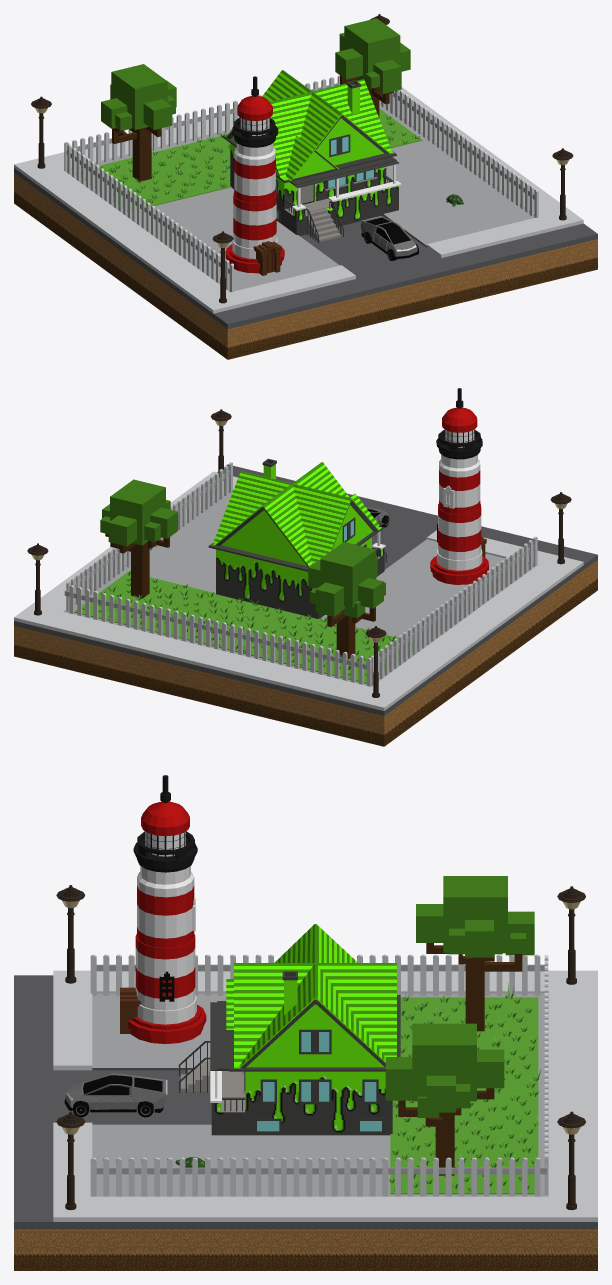
3 views of the same model, one above another, from view 1: azimuth 30°, elevation 25°; view 2: azimuth 150°, elevation 25°; view 3: azimuth 270°, elevation 25° (orthographic). The views are drawn at different scales.
Parts seen in each view (by area): view 1: Cube.004, Cube.754, OBJRANDOM_LIGHTHOUSE, VEHICLES_CYBERTRUCK; view 2: Cube.004, Cube.754, OBJRANDOM_LIGHTHOUSE; view 3: Cube.004, Cube.754, OBJRANDOM_LIGHTHOUSE, VEHICLES_CYBERTRUCK.
Part boxes in pixels (box(x1,y1,x2,y2)): Cube.004: box(14, 14, 597, 359); Cube.754: box(222, 70, 401, 243); OBJRANDOM_LIGHTHOUSE: box(225, 76, 284, 275); VEHICLES_CYBERTRUCK: box(360, 216, 418, 260); Cube.004: box(14, 409, 597, 746); Cube.754: box(208, 458, 386, 618); OBJRANDOM_LIGHTHOUSE: box(430, 388, 488, 584); Cube.004: box(14, 876, 597, 1270); Cube.754: box(178, 924, 400, 1135); OBJRANDOM_LIGHTHOUSE: box(120, 775, 206, 1043); VEHICLES_CYBERTRUCK: box(64, 1073, 167, 1117).
Bounding box in the file's own units: 4000 × 2372 × 4000.
36 materials, 4 textured.
